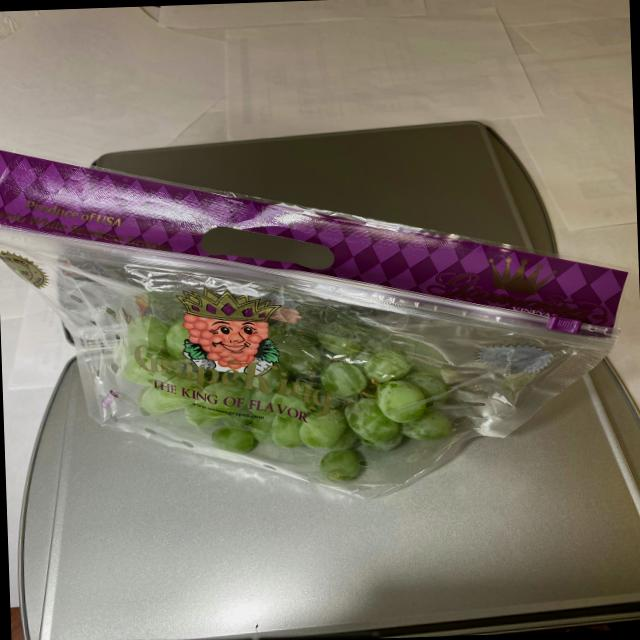grapes: (100, 311, 490, 480)
